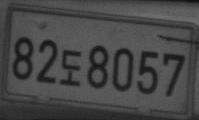0: (111, 47, 134, 92)
2: (36, 38, 58, 83)
5: (137, 50, 158, 94)
7: (162, 52, 186, 96)
8: (86, 44, 109, 88), (12, 36, 34, 79)
도: (60, 49, 81, 87)
